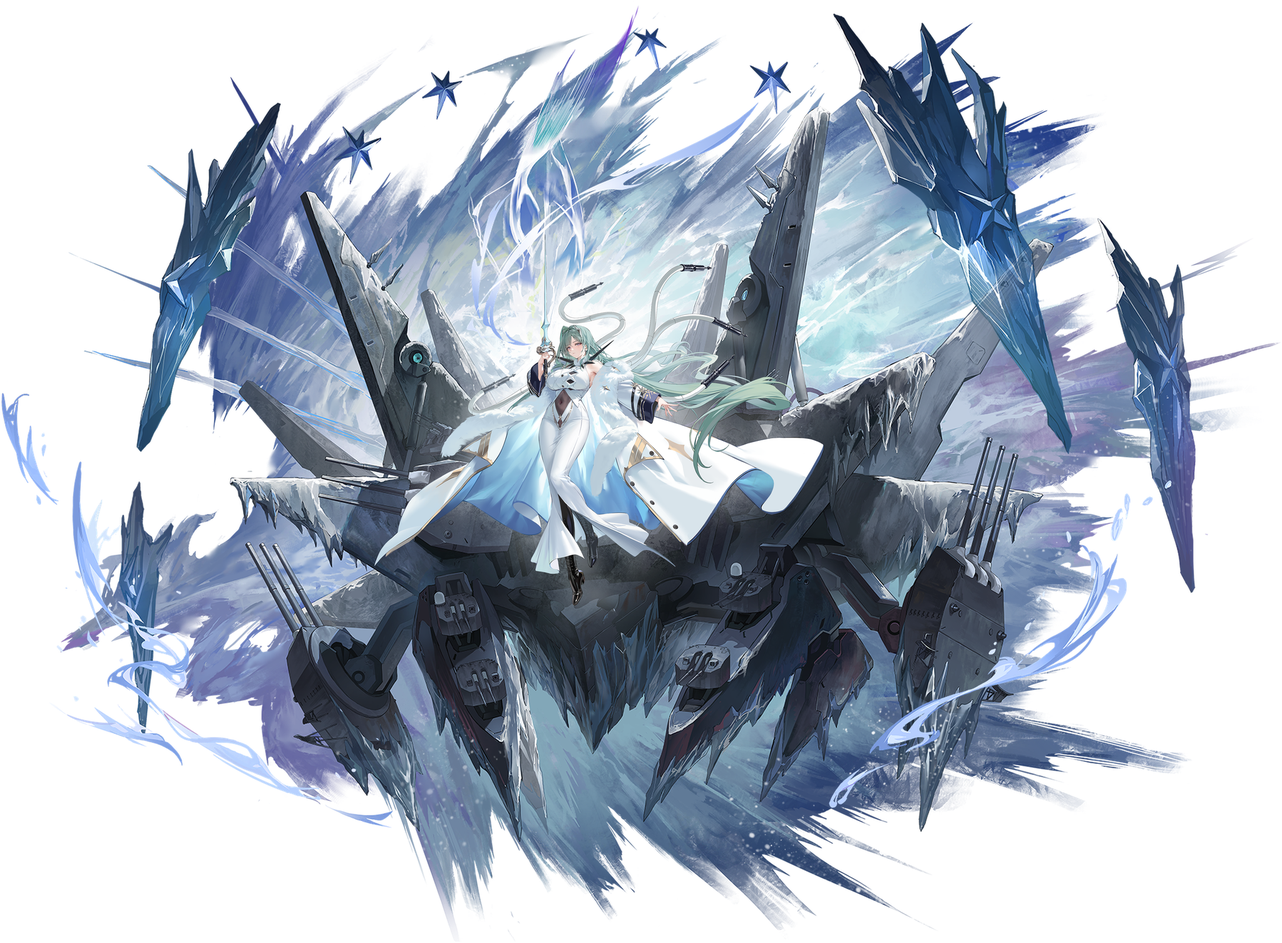person: (410, 225, 651, 673)
